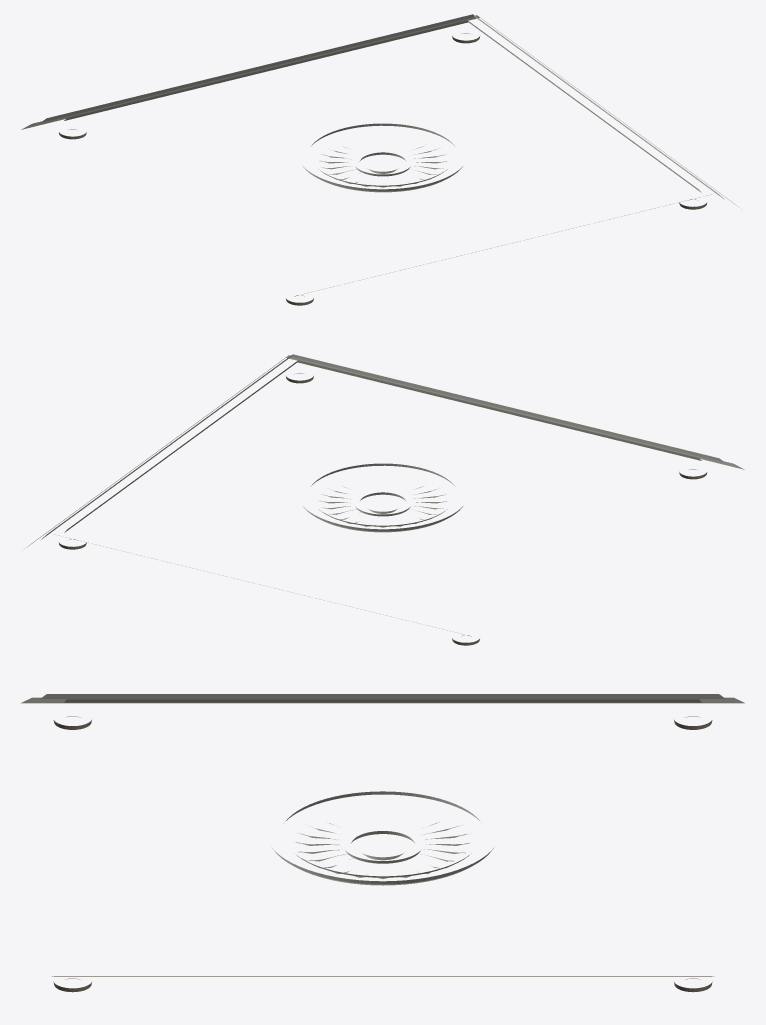
Rendered from coffer.glb.
3 views of the same model, one above another, from view 1: azimuth 30°, elevation 25°; view 2: azimuth 150°, elevation 25°; view 3: azimuth 270°, elevation 25° (orthographic). The views are drawn at different scales.
Parts seen in each view (by area): view 1: Surface; view 2: Surface; view 3: Surface.
Part boxes in pixels (bbox=[...]): Surface: bbox=[21, 14, 739, 305]; Surface: bbox=[26, 354, 744, 645]; Surface: bbox=[21, 694, 744, 992].
Bounding box in the file's own units: 4.52 × 0.1677 × 4.52.
